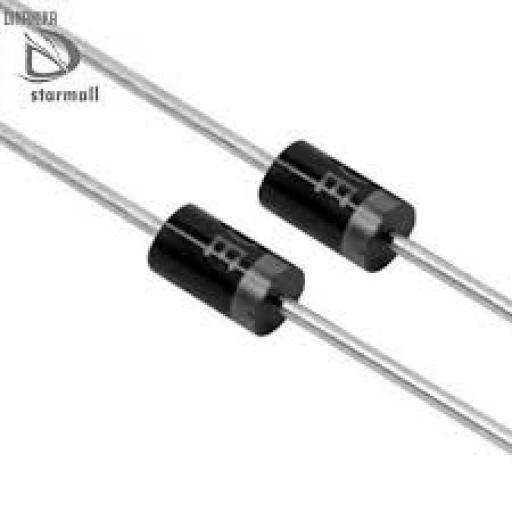DIODE: (112, 179, 306, 372), (252, 126, 414, 306)
